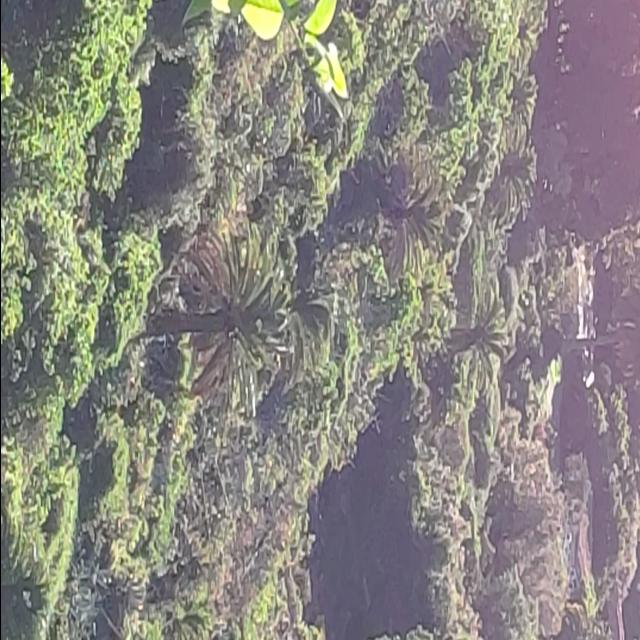Palm-Trees: (144, 240, 290, 400), (374, 148, 444, 278), (438, 302, 505, 376)
